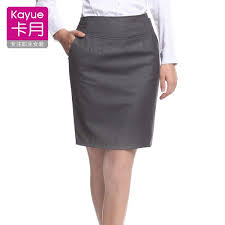F_tailored skirt: (62, 9, 159, 154)
